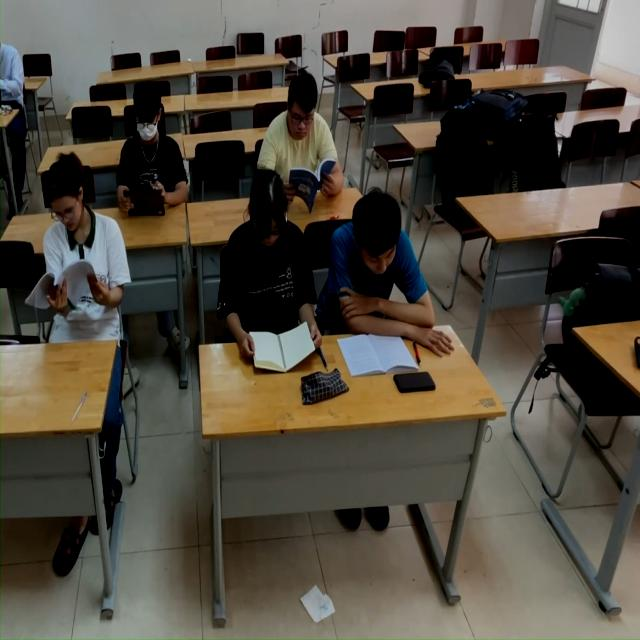read: (5, 165, 132, 387), (209, 175, 330, 378), (351, 196, 453, 368), (265, 57, 346, 212), (113, 84, 188, 229)
